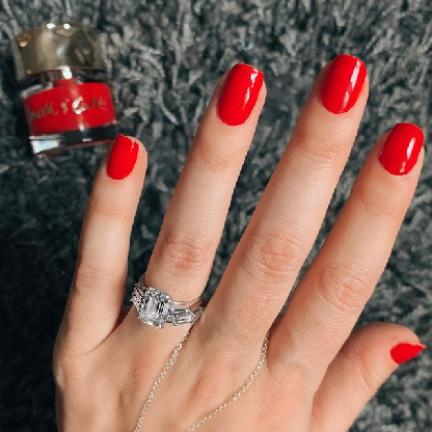Nail: (216, 63, 264, 126), (320, 54, 367, 115), (378, 122, 424, 176), (106, 133, 140, 180), (390, 342, 427, 364)
